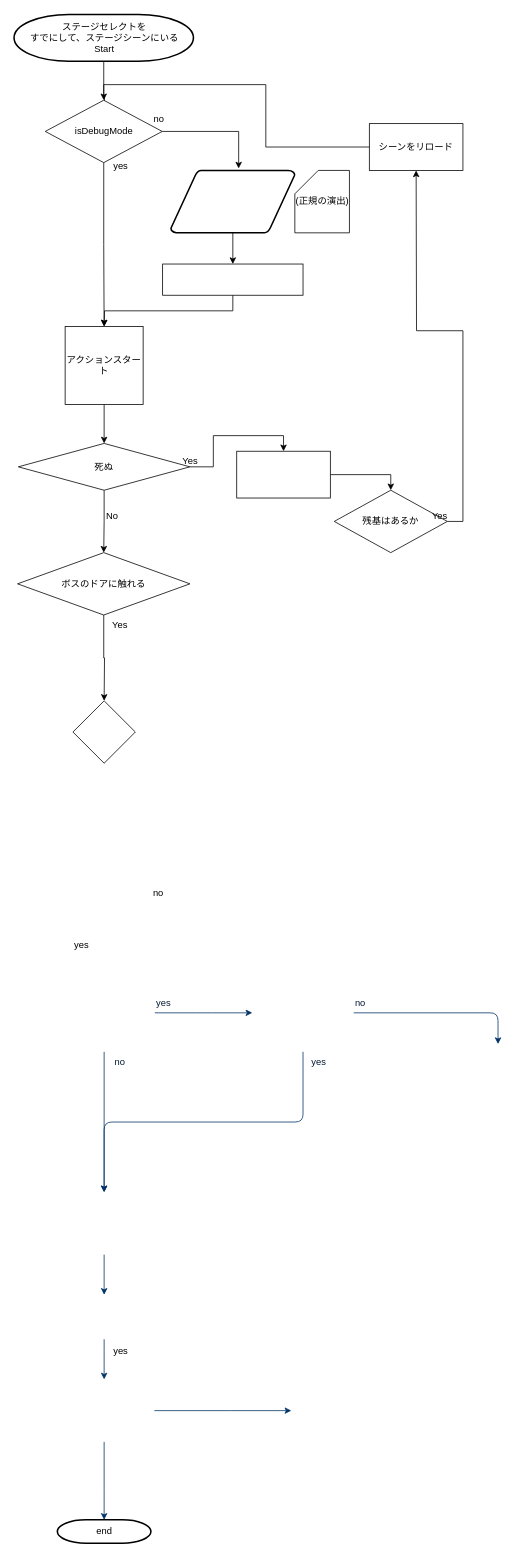
The diagram is 518 pixels wide and 1557 high, and some of its shapes have lost their labels. The centre of each missing label's shape, as x and y in pixels:
スタンバイターミナル 表示: the point at 232,201
プレイヤーワープで登場: the point at 232,279
ボス登場: the point at 103,731
死亡演出: the point at 283,474
